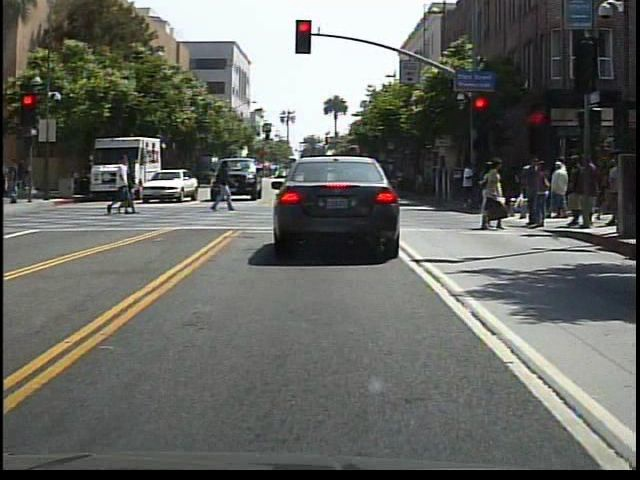person: (327, 122, 367, 242), (472, 160, 515, 232), (109, 156, 141, 222), (210, 158, 240, 216), (550, 152, 572, 224), (115, 158, 136, 213), (6, 160, 30, 207), (123, 163, 142, 215)
